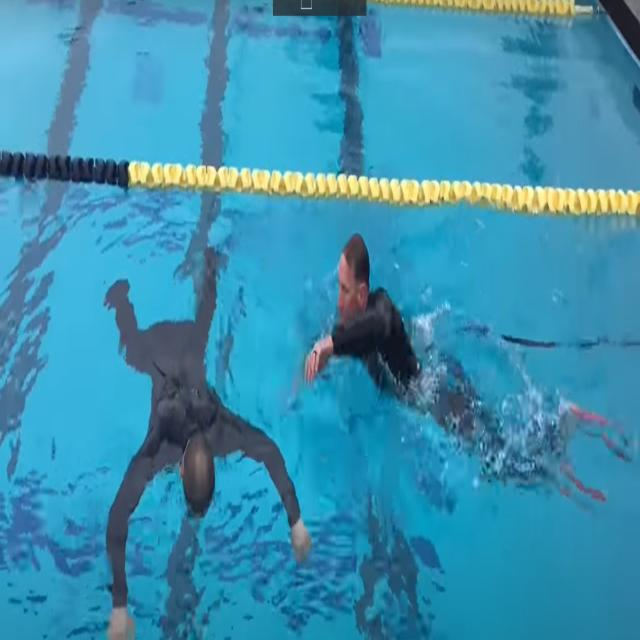Drowning: (100, 241, 308, 640)
Swimming: (304, 227, 577, 478)
